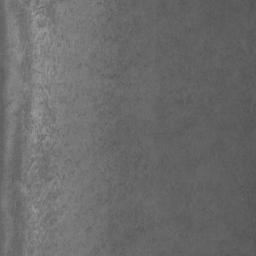Silk spot: (0, 0, 196, 256), (200, 0, 256, 256), (160, 64, 230, 120), (209, 141, 238, 176), (175, 213, 203, 237), (159, 37, 187, 57), (215, 240, 246, 256), (237, 0, 256, 16)
